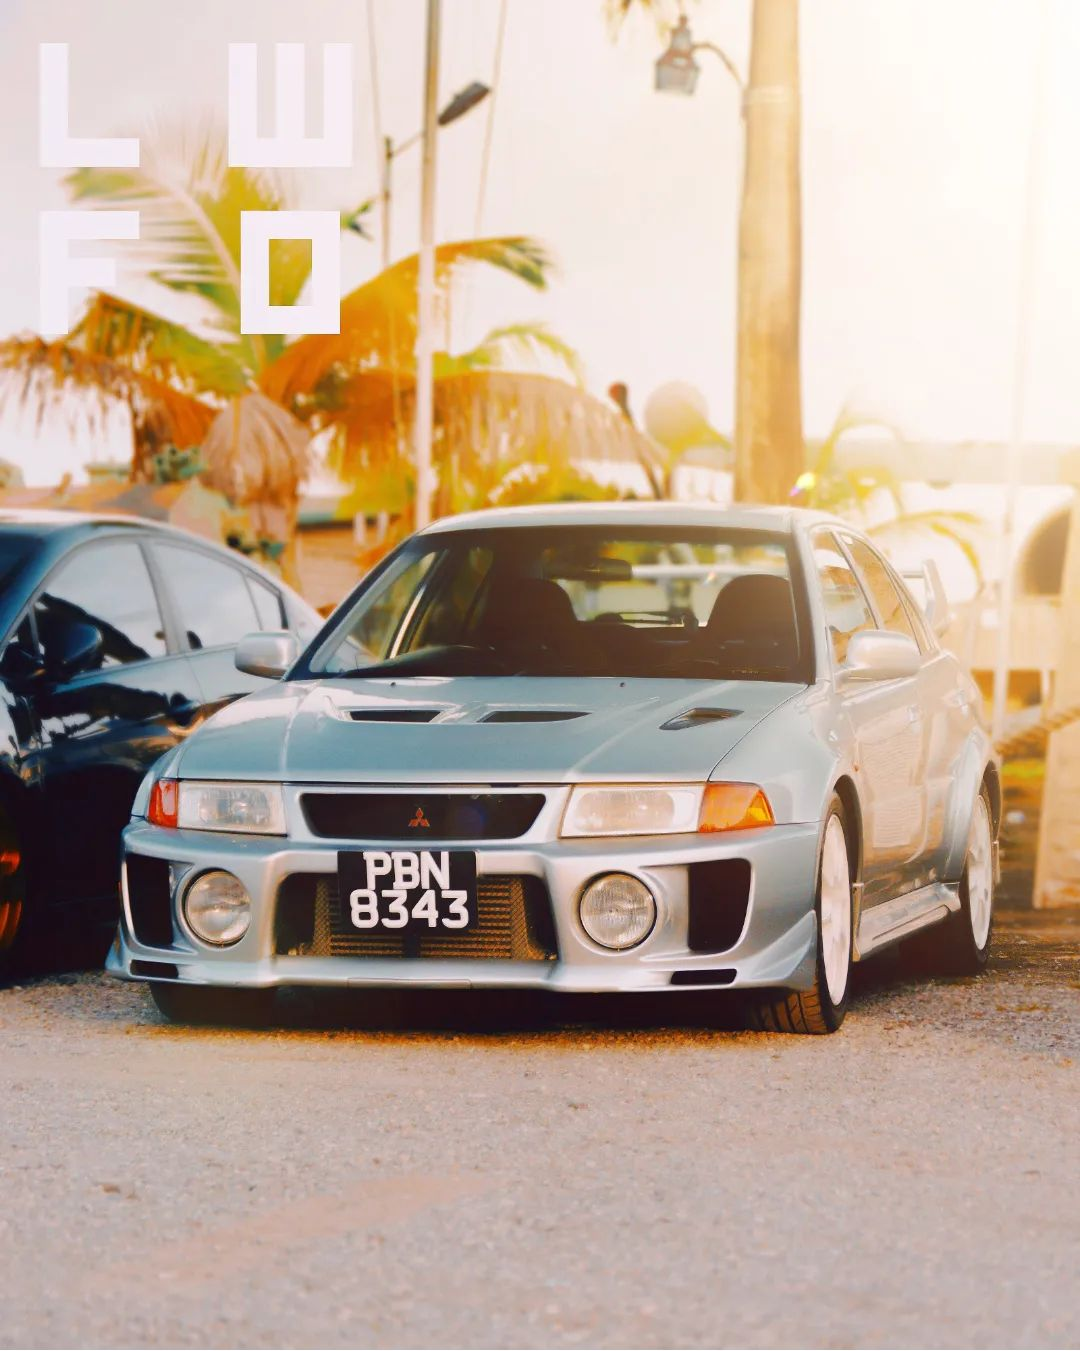License-Plate: (337, 850, 475, 930)
